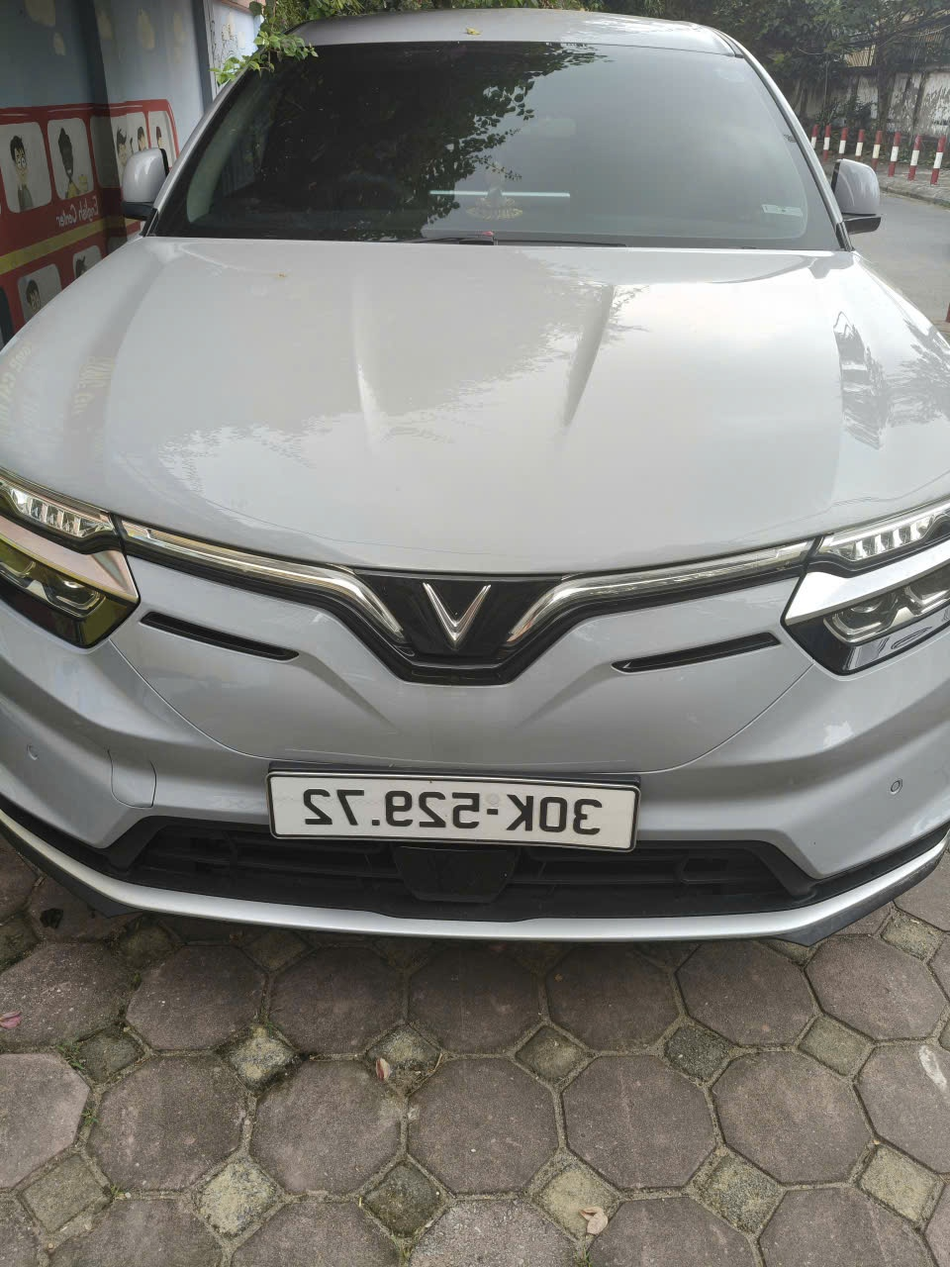plate: (843, 543, 918, 570)
